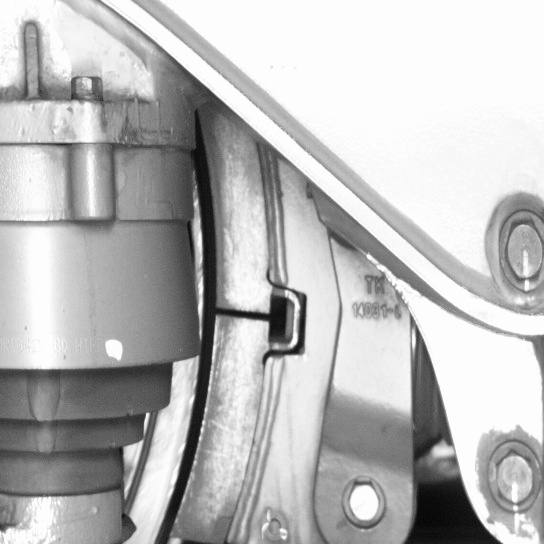KnifeSwitch: (151, 145, 284, 542)
